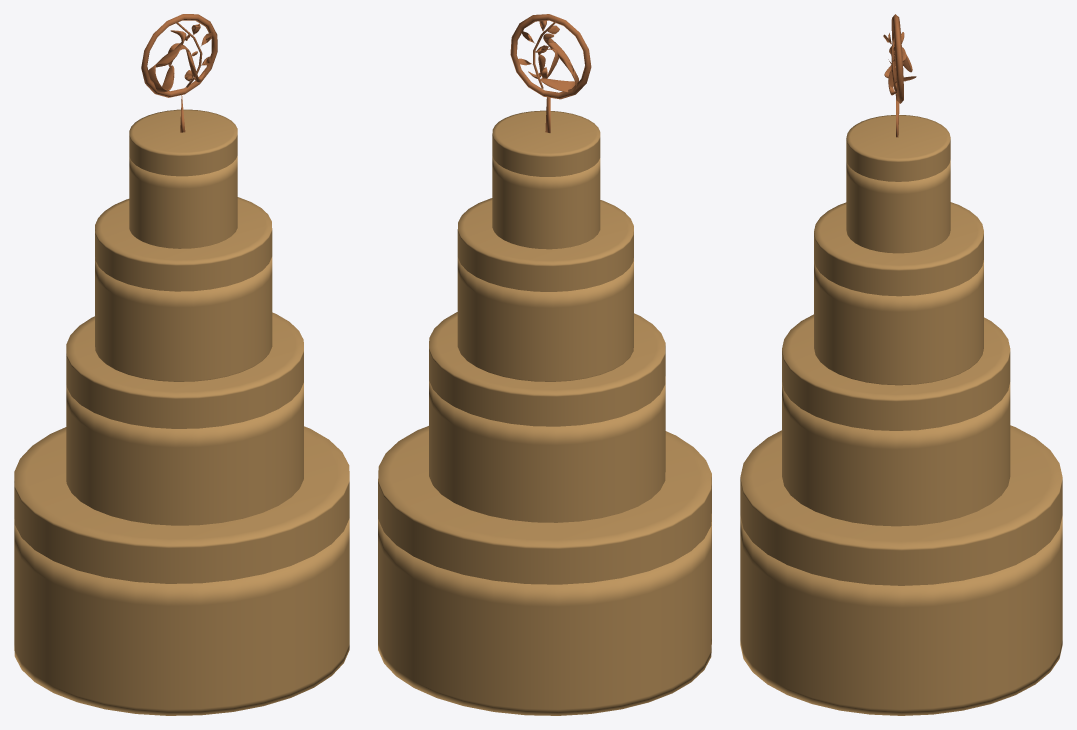
The model's file is 4-tier-caramel-none-ring.glb.
3 renders of one model, left to right at view 1: azimuth 30°, elevation 25°; view 2: azimuth 150°, elevation 25°; view 3: azimuth 270°, elevation 25°, orthographic.
Visible parts, largest first — view 1: 3.001, 3, 2, 1, Cylinder.006; view 2: 3.001, 3, 2, 1, Cylinder.006; view 3: 3.001, 3, 2, 1, Cylinder.006.
Boxes of the visible parts, x1,y1,x2,y2 form: 3.001: (14, 426, 349, 715); 3: (66, 312, 303, 525); 2: (95, 197, 272, 381); 1: (129, 109, 237, 248); Cylinder.006: (141, 14, 217, 132); 3.001: (378, 426, 711, 715); 3: (429, 312, 665, 522); 2: (457, 198, 633, 381); 1: (492, 110, 600, 249); Cylinder.006: (510, 14, 591, 132); 3.001: (740, 425, 1062, 715); 3: (782, 314, 1010, 526); 2: (814, 202, 983, 385); 1: (846, 115, 950, 253); Cylinder.006: (883, 14, 916, 137).
Bounding box in the file's own units: 4.43 × 9.13 × 4.27.
